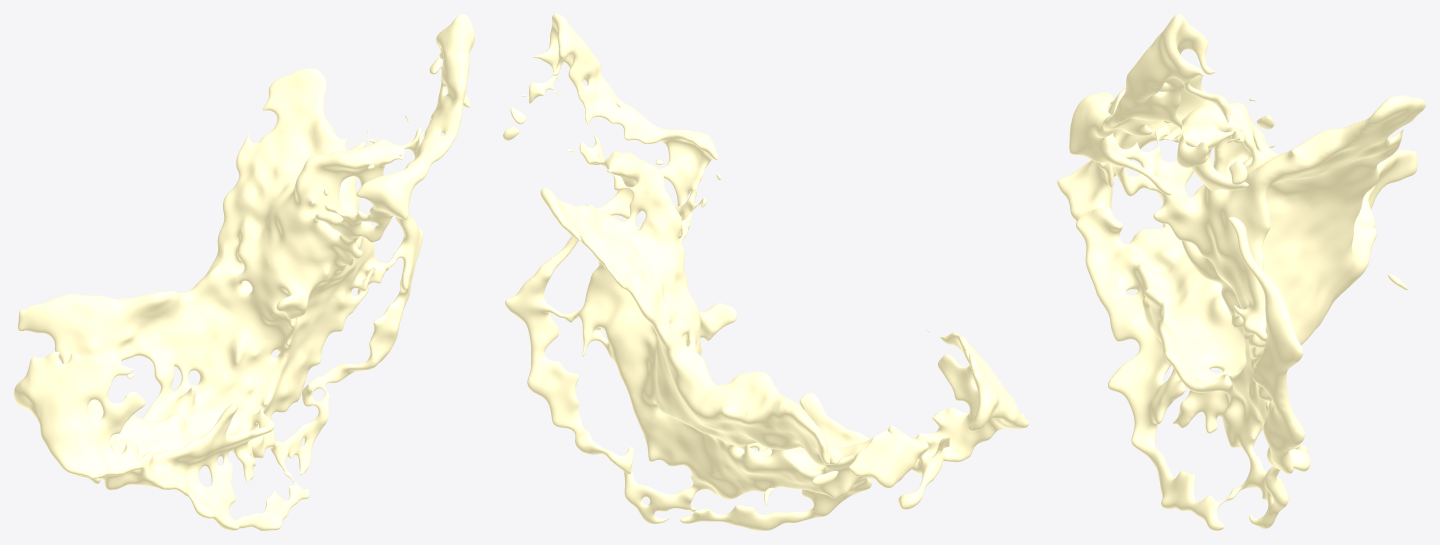
The picture shows the model from 3 angles, left to right: view 1: azimuth 30°, elevation 25°; view 2: azimuth 150°, elevation 25°; view 3: azimuth 270°, elevation 25°; orthographic projection. The views are drawn at different scales.
Visible parts, largest first — view 1: Fluid_3; view 2: Fluid_3; view 3: Fluid_3.
Boxes of the visible parts, bbox=[...] form: Fluid_3: bbox=[14, 14, 474, 530]; Fluid_3: bbox=[503, 14, 1028, 530]; Fluid_3: bbox=[1057, 14, 1425, 530].
Size of the model in its own units: 167 by 159 by 86.43.
